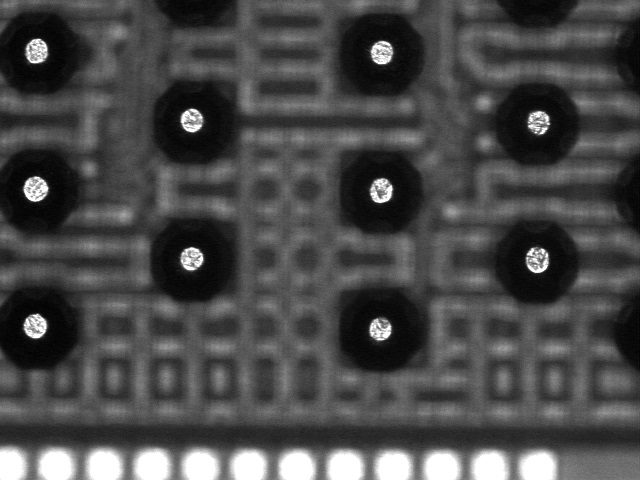normal: (145, 74, 243, 168), (143, 214, 241, 308), (332, 7, 430, 101), (332, 144, 430, 238), (330, 281, 428, 375), (488, 213, 586, 307), (486, 78, 584, 172), (1, 281, 85, 374), (1, 143, 85, 236), (1, 4, 85, 97)
